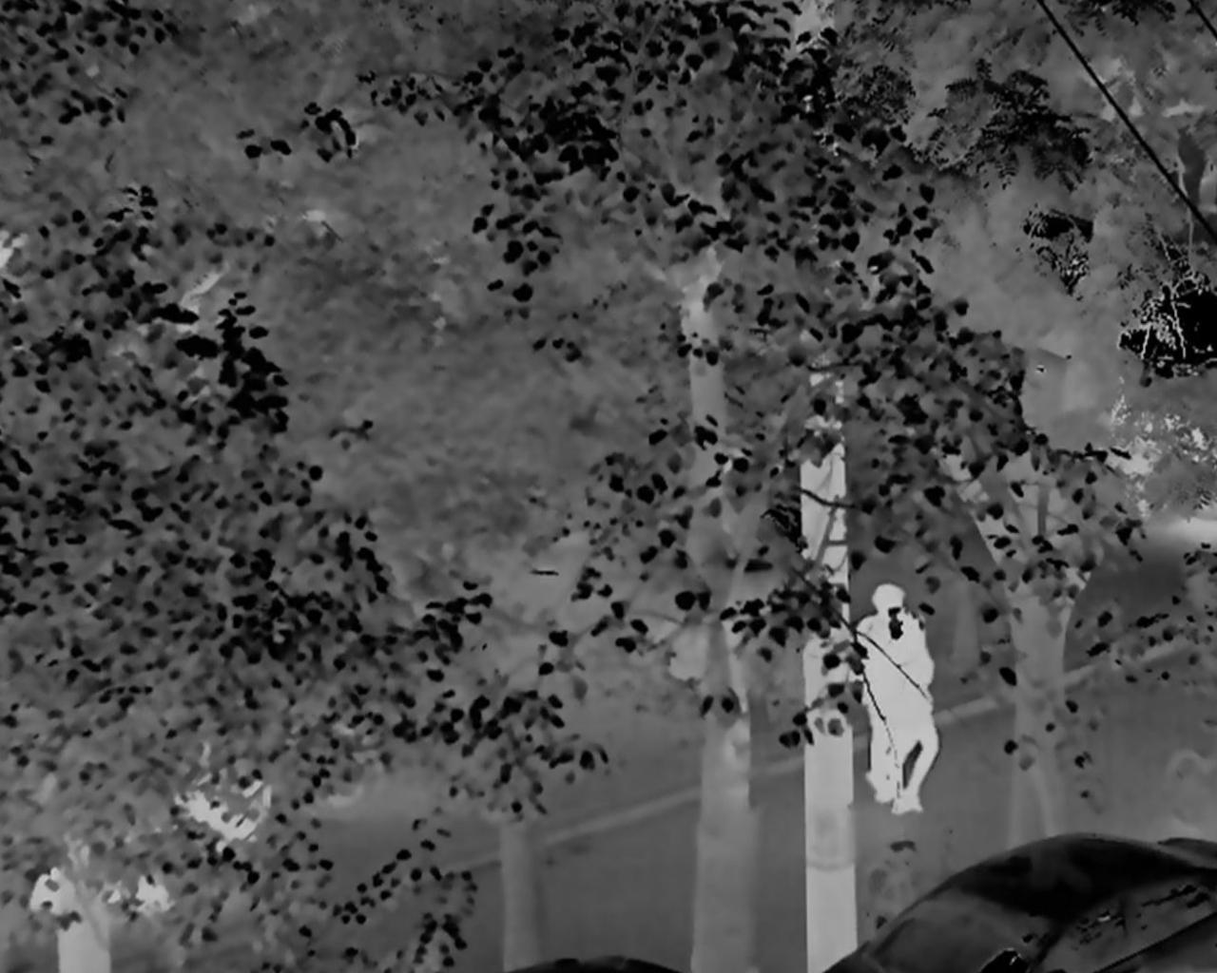person: (881, 610, 938, 815), (856, 581, 908, 796)
